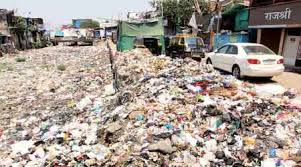garbage: (2, 56, 189, 167), (73, 84, 263, 167), (142, 92, 301, 165)
